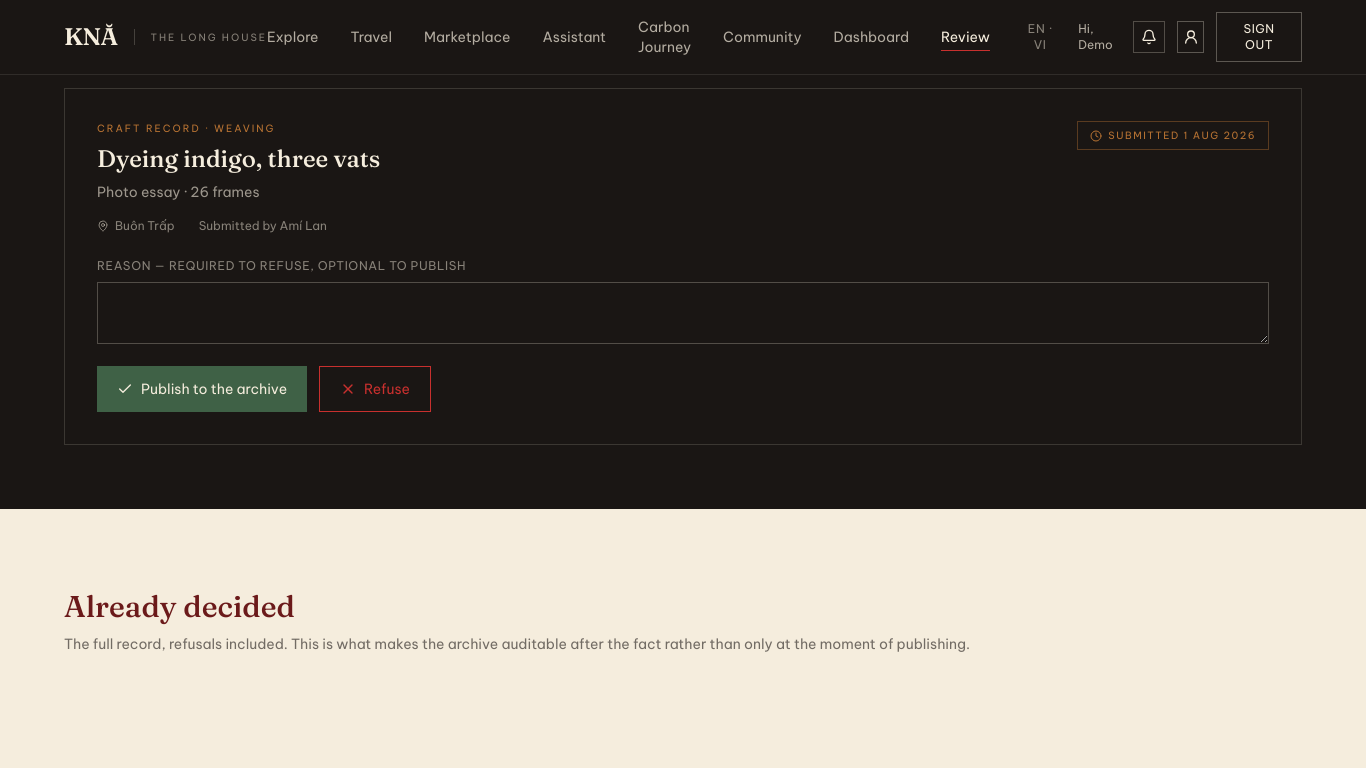
Test case: Review › sends the reason with a refusal, and surfaces the server error if it is missing
(page scrolled)
Check: the heading "Dyeing indigo, three vats" is shown, box x1=97 y1=144 x2=380 y2=174
Click the button "Refuse": x=375, y=389 x1=319 y1=366 x2=431 y2=412
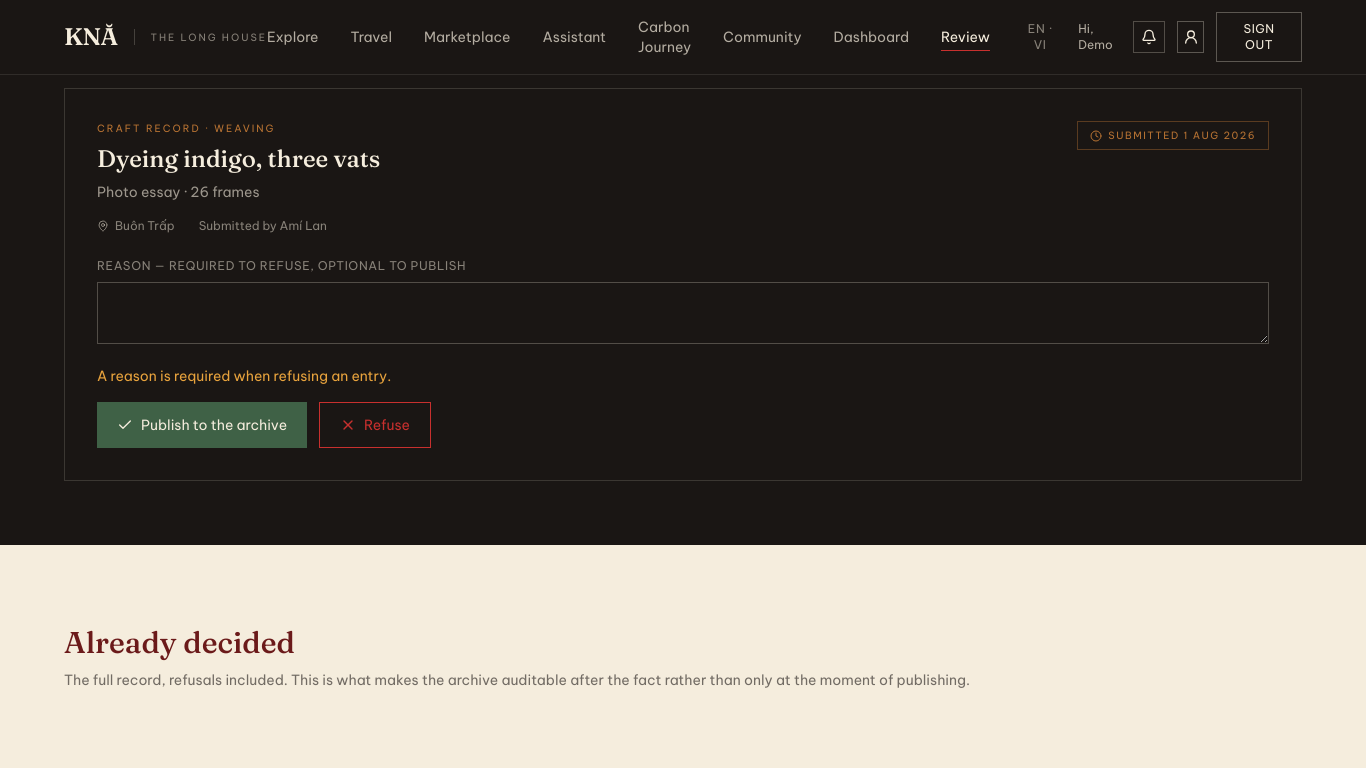
Check: the text "A reason is required when refusing an entry." is shown, box x1=97 y1=367 x2=391 y2=385
